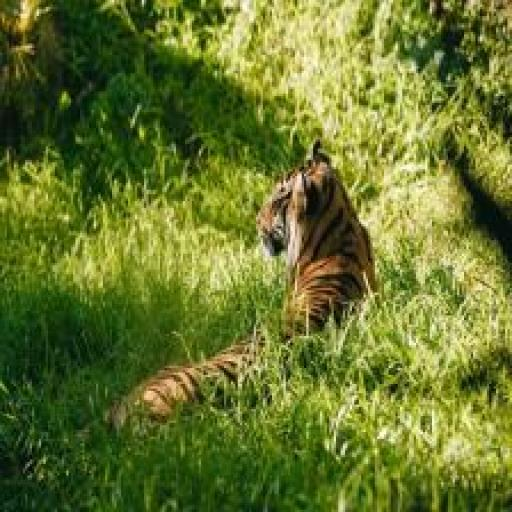Tiger: (25, 121, 450, 463)
